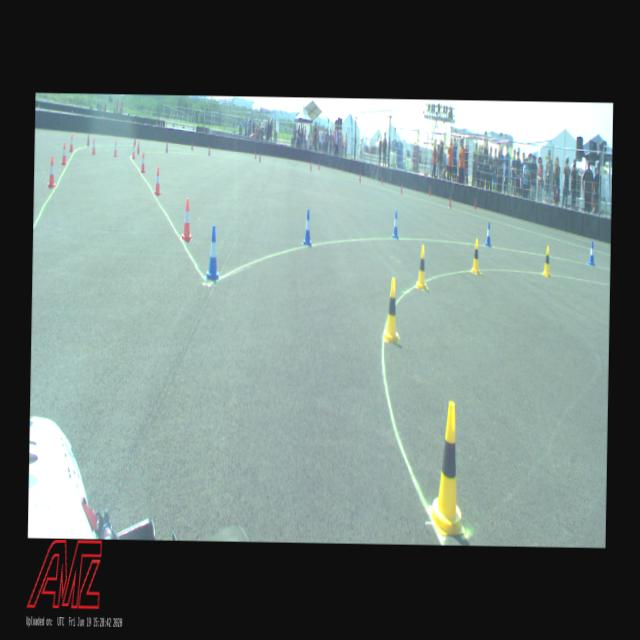blue_cone: (206, 224, 220, 280), (302, 210, 312, 246), (484, 222, 492, 246), (392, 212, 398, 238), (588, 240, 594, 266)
orange_cone: (180, 198, 192, 241), (46, 156, 56, 188), (154, 167, 161, 194), (60, 142, 67, 166), (68, 134, 74, 152), (91, 136, 96, 154), (140, 152, 144, 172), (114, 139, 118, 157), (132, 142, 136, 158)
unknown_cone: (136, 140, 140, 155), (86, 132, 89, 146), (134, 136, 136, 146)
yellow_cone: (428, 401, 468, 535), (382, 276, 400, 340), (416, 244, 428, 289), (471, 238, 480, 272), (542, 245, 551, 278)
